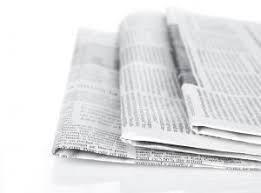Printing industry: (11, 10, 261, 193)
